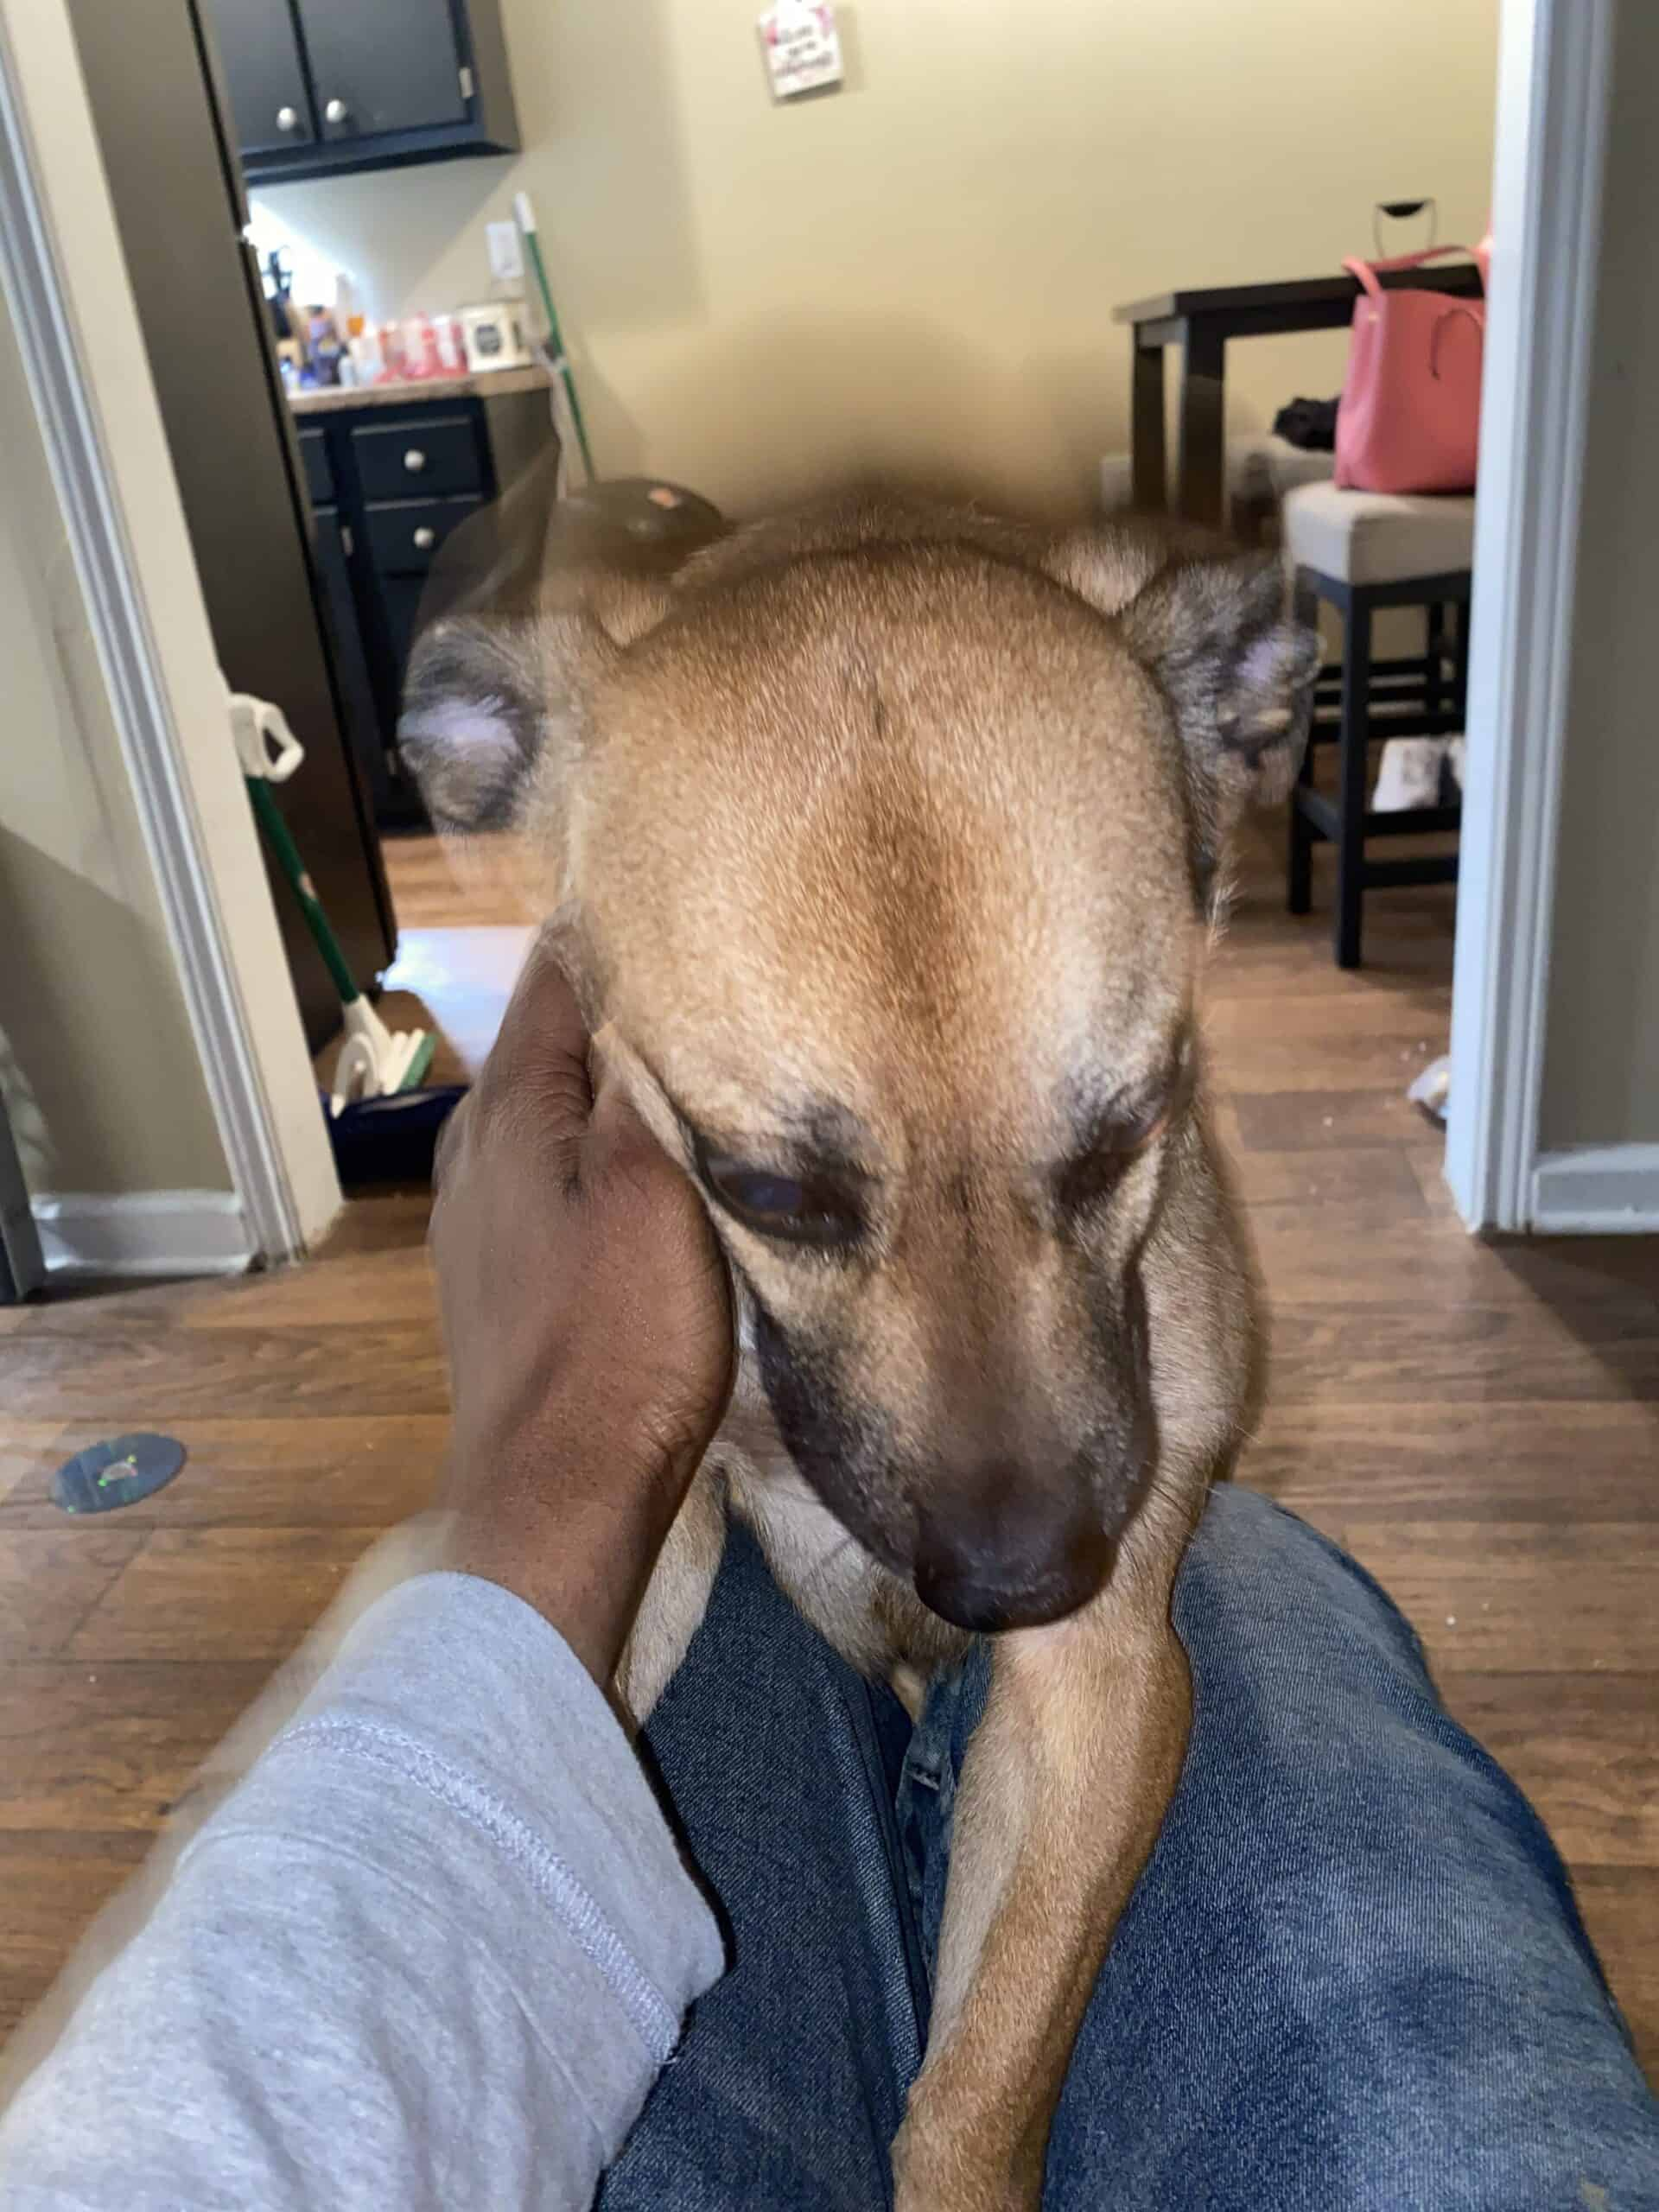dog: (303, 525, 1521, 1843)
human: (130, 957, 771, 2212)
